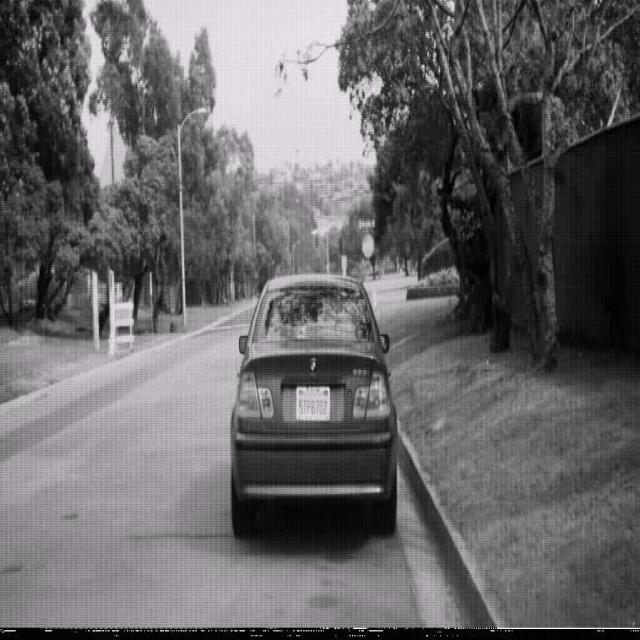stop_sign: (360, 232, 374, 258)
